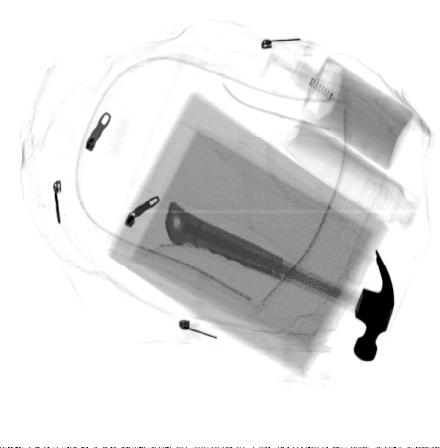Hammer: (163, 199, 397, 363)
